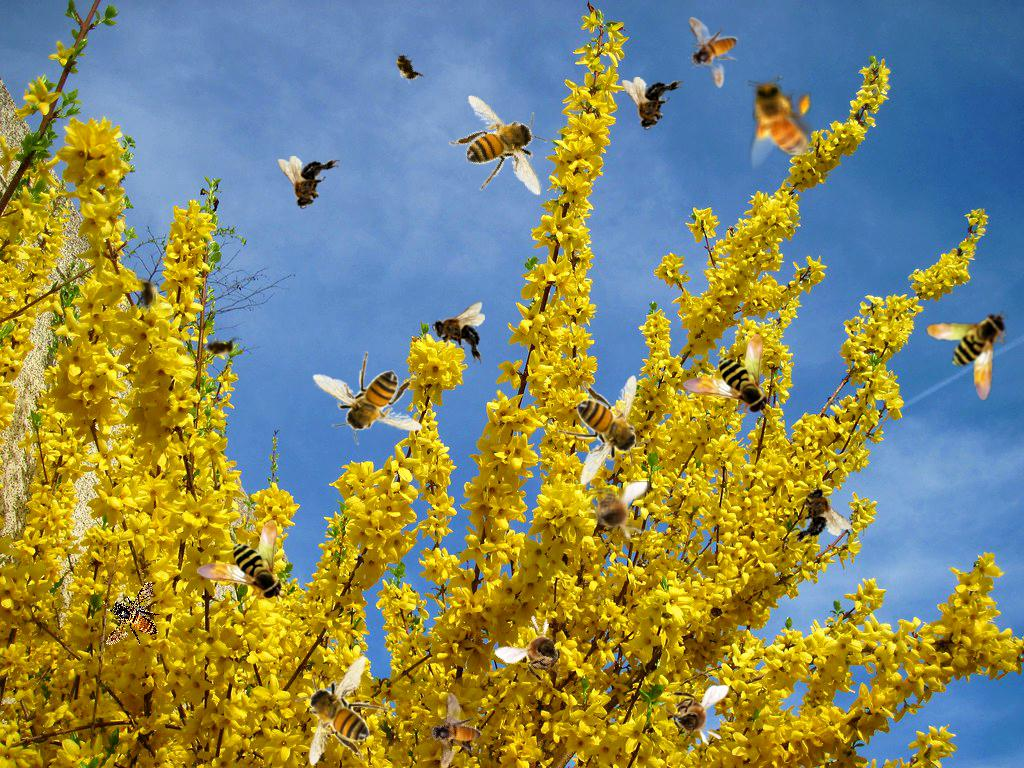Bee: (431, 80, 574, 218), (312, 351, 423, 445), (557, 375, 651, 486), (295, 655, 389, 766), (925, 310, 1015, 406), (493, 605, 586, 697), (682, 334, 770, 416), (196, 520, 284, 602), (89, 579, 177, 660), (746, 76, 814, 169), (414, 691, 494, 768), (779, 480, 854, 548), (578, 479, 653, 545), (659, 685, 729, 746), (688, 17, 738, 88), (432, 302, 485, 364), (622, 77, 684, 130), (278, 156, 340, 209), (387, 44, 427, 90), (136, 274, 158, 314), (200, 336, 240, 358)
